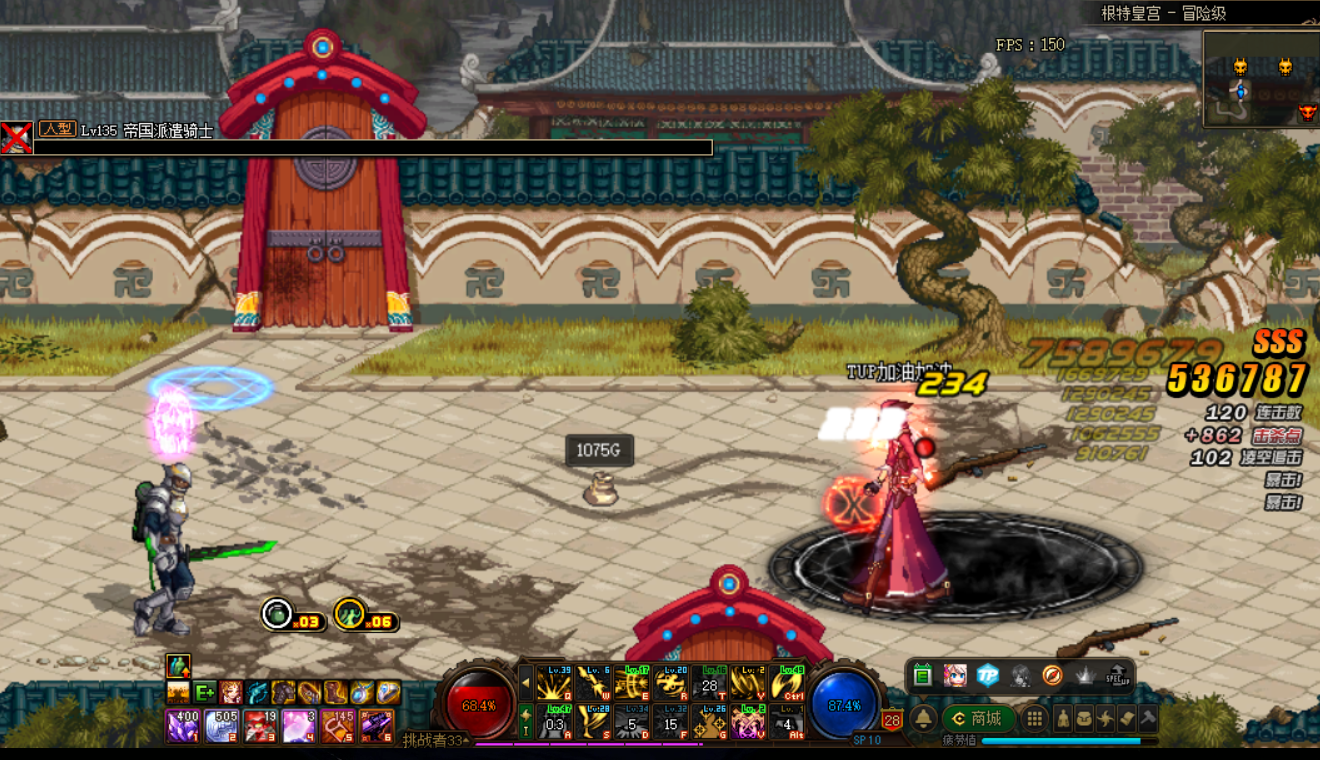monster: (129, 464, 282, 634)
warrior: (845, 394, 963, 614)
